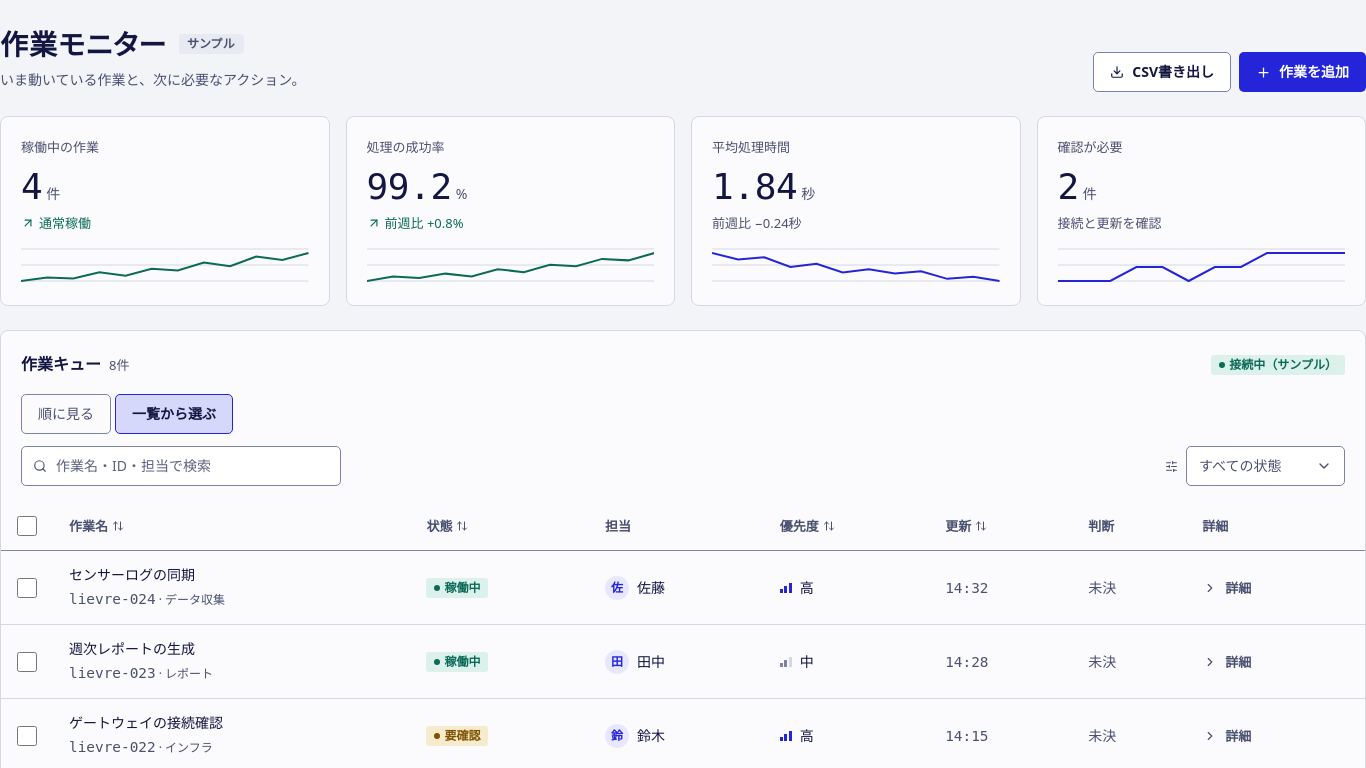
Test case: Workspace flows › filters, clears empty results and sorts all pages before pagination
Type "存在しない作業" into the field named "作業を検索". click: (181, 466)
box: left=21, top=446, right=341, bottom=486
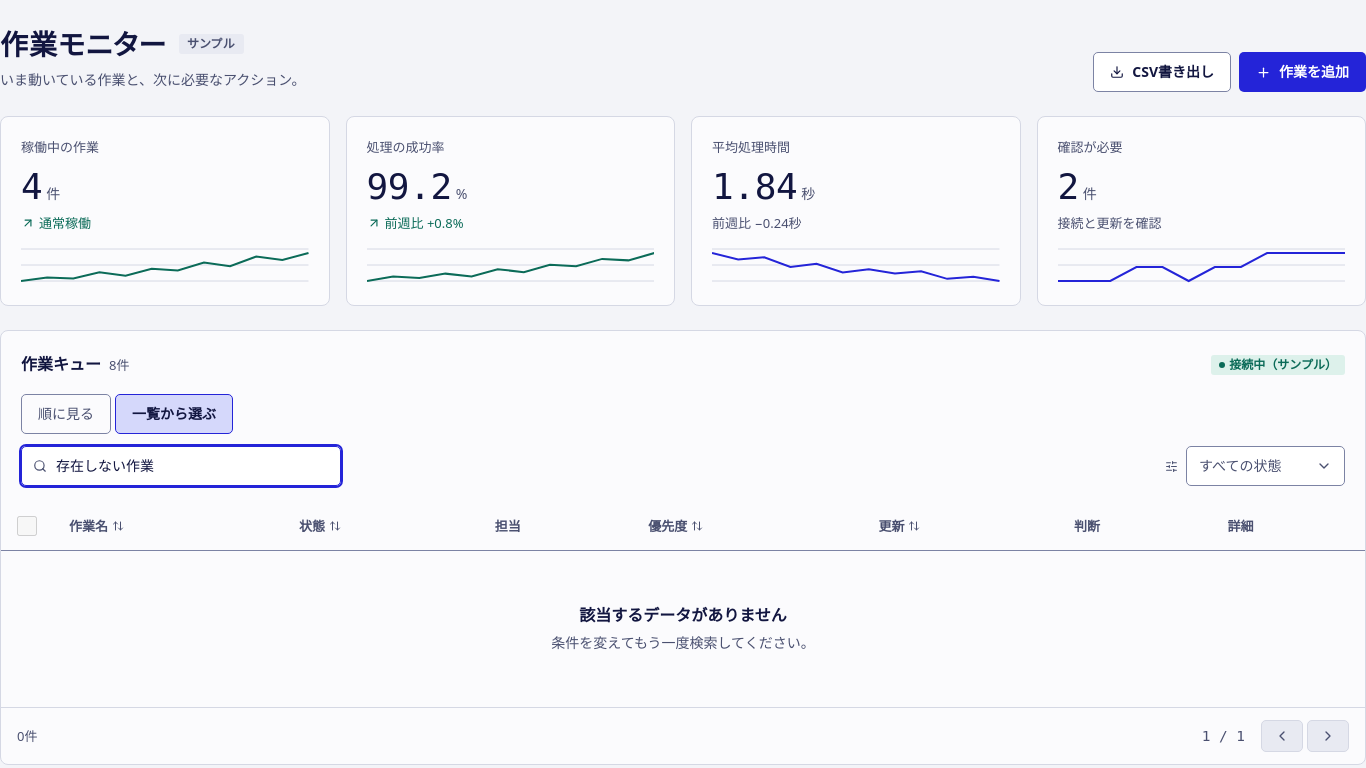
Expected: the heading "該当するデータがありません" is shown, left=579, top=604, right=787, bottom=626
Clear the field named "作業を検索". click: (181, 466)
box: left=21, top=446, right=341, bottom=486
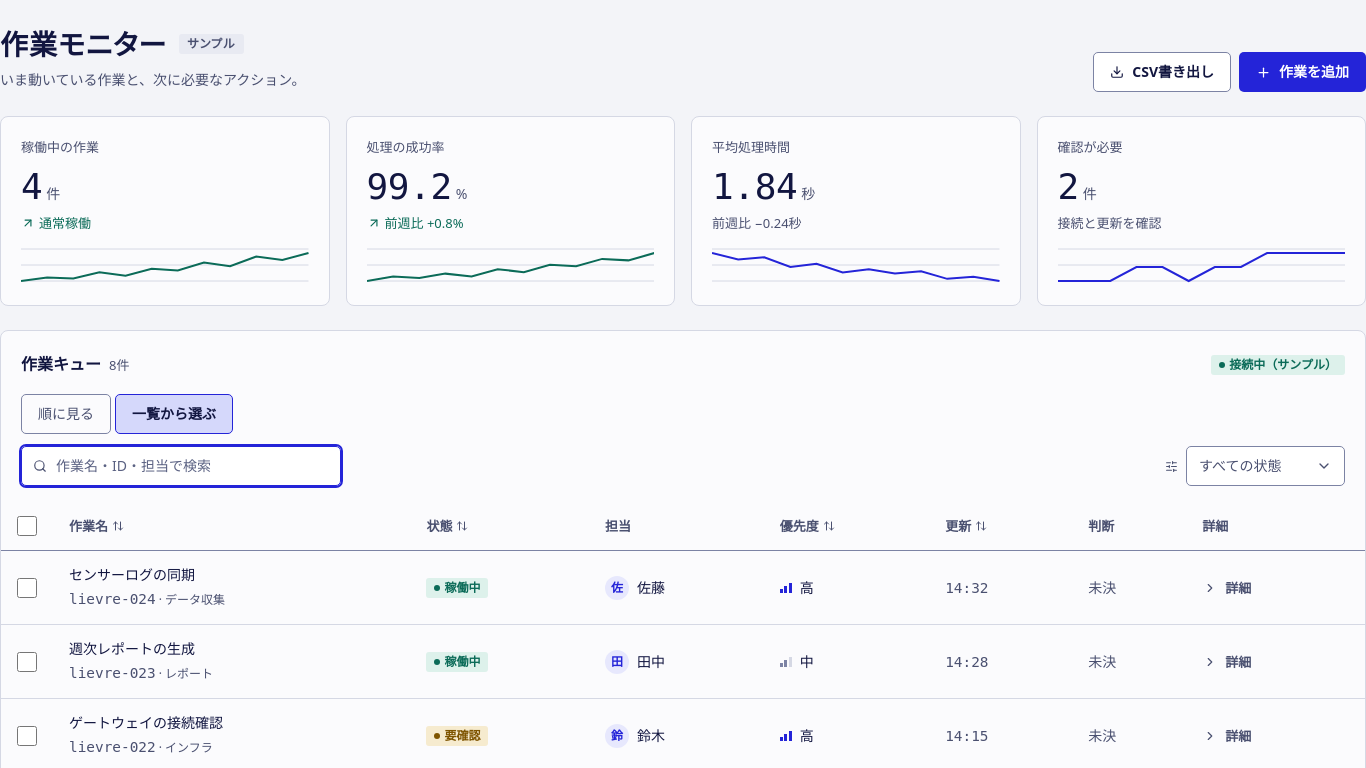
Click the button "優先度". click: (807, 526)
box: left=780, top=514, right=835, bottom=538
(page scrolled)
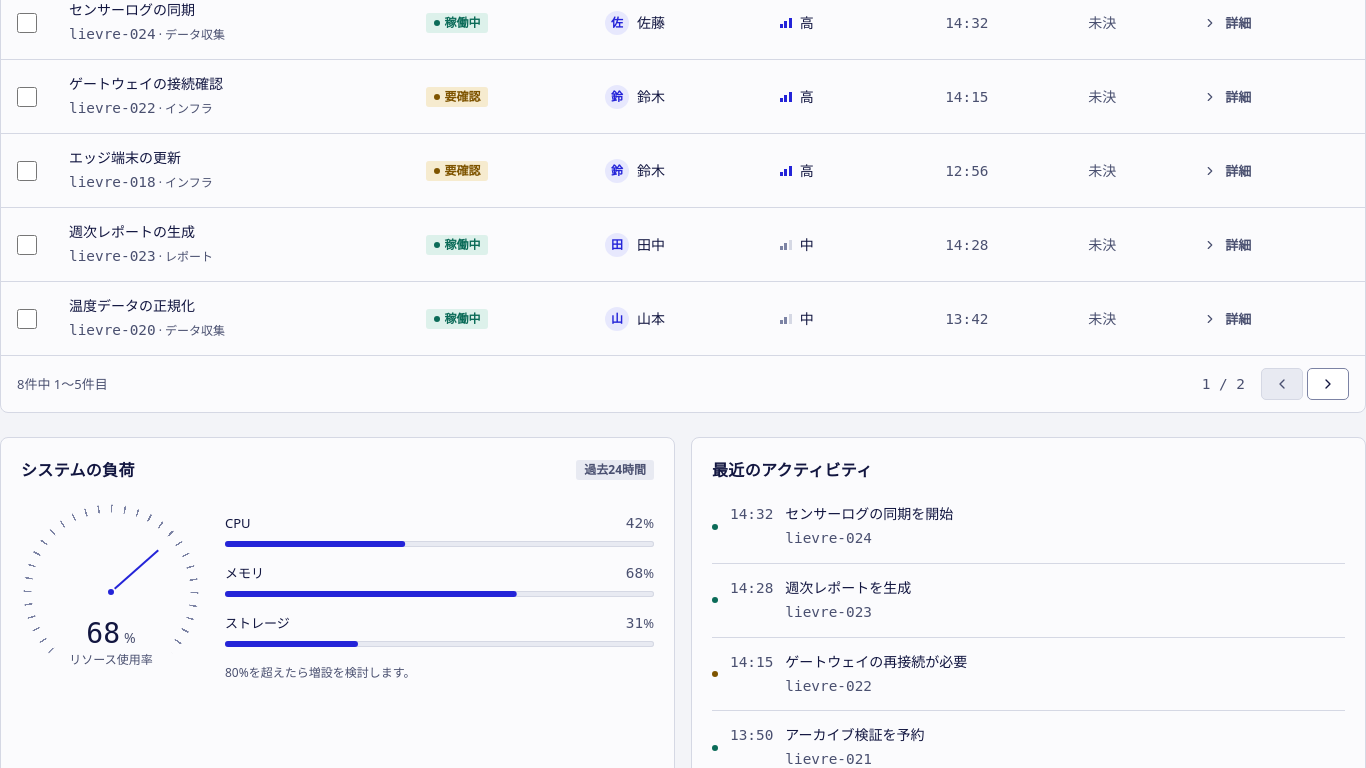
Expected: the text "エッジ端末の更新" is shown, left=69, top=148, right=181, bottom=167
Click the button named "次のページ". click: (1328, 384)
box: left=1307, top=368, right=1349, bottom=400
(page scrolled)
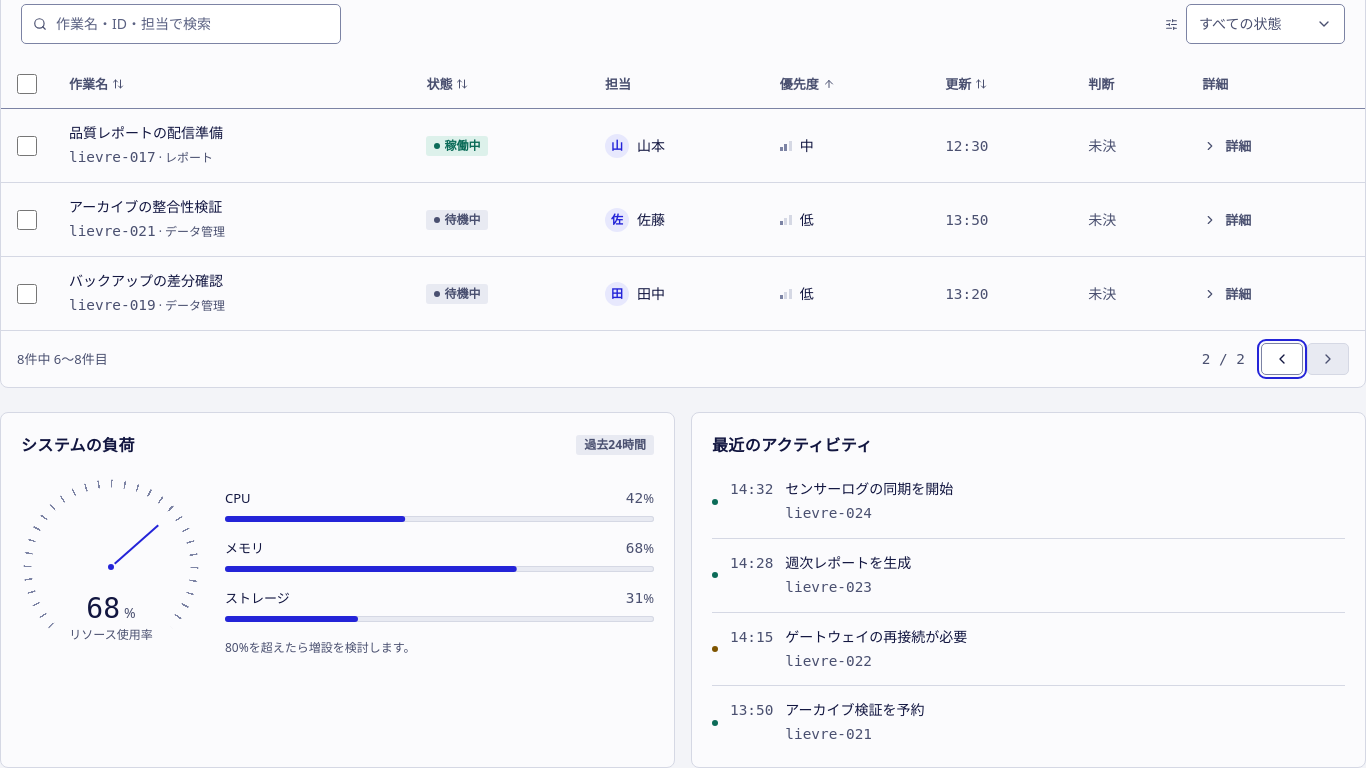
Expected: the text "アーカイブの整合性検証" is shown, left=69, top=197, right=222, bottom=216
